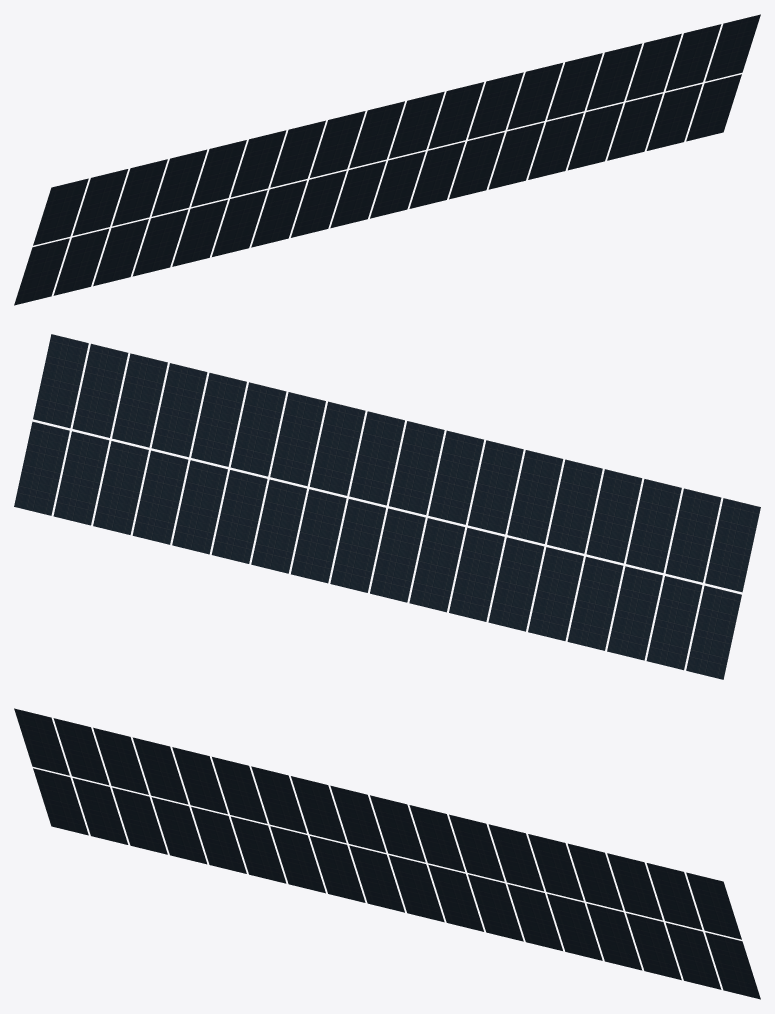
Rendered from full_table_glass.obj.
3 views of the same model, one above another, from view 1: azimuth 30°, elevation 25°; view 2: azimuth 150°, elevation 25°; view 3: azimuth 330°, elevation 25° (orthographic).
Visible parts, largest first — view 1: full_table_glass; view 2: full_table_glass; view 3: full_table_glass.
Boxes of the visible parts, x1,y1,x2,y2 form: full_table_glass: (14, 14, 760, 305); full_table_glass: (14, 334, 760, 679); full_table_glass: (14, 708, 760, 999).
Size of the model in its own units: 20.28 by 3.97 by 1.85.
Materials: 1 (1 with a texture image).
